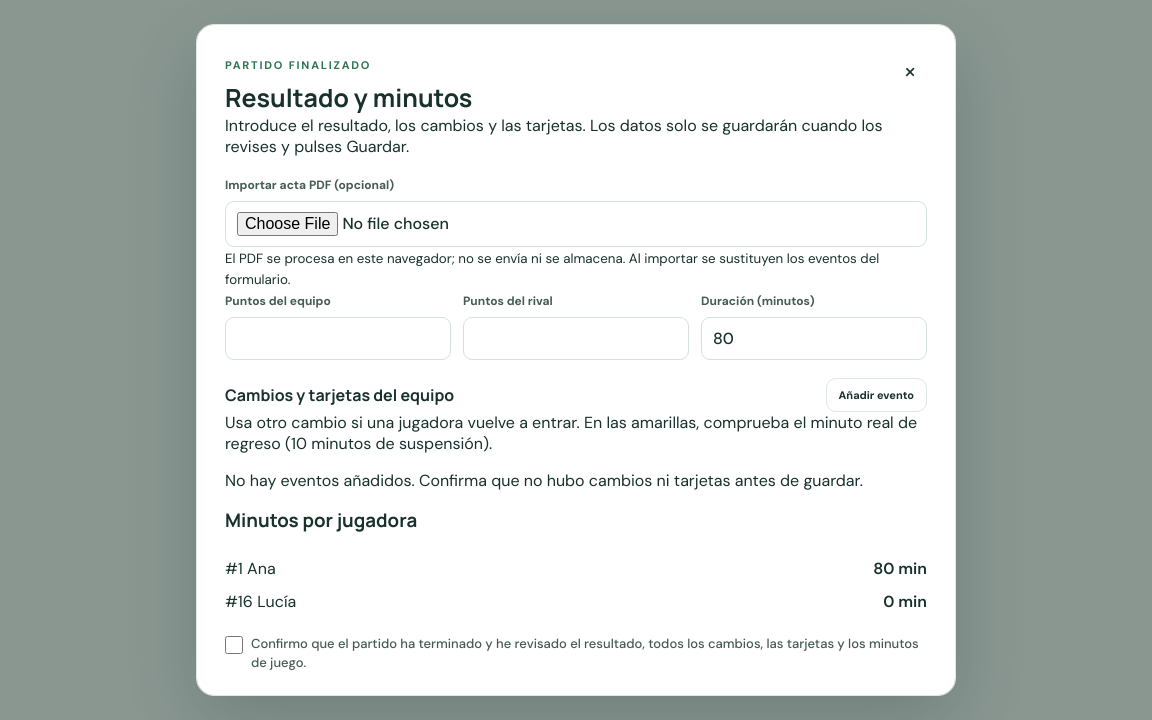
MatchReportDialog › blocks inconsistent substitutions and missing minute values
The image size is (1152, 720).
Type "46" into the number field labelled "Puntos del equipo". click: (338, 338)
box: [225,317,451,360]
Type "7" into the number field labelled "Puntos del rival". click: (576, 338)
box: [463,317,689,360]
Click the button "Añadir evento". click: (876, 395)
box: [826,378,927,412]
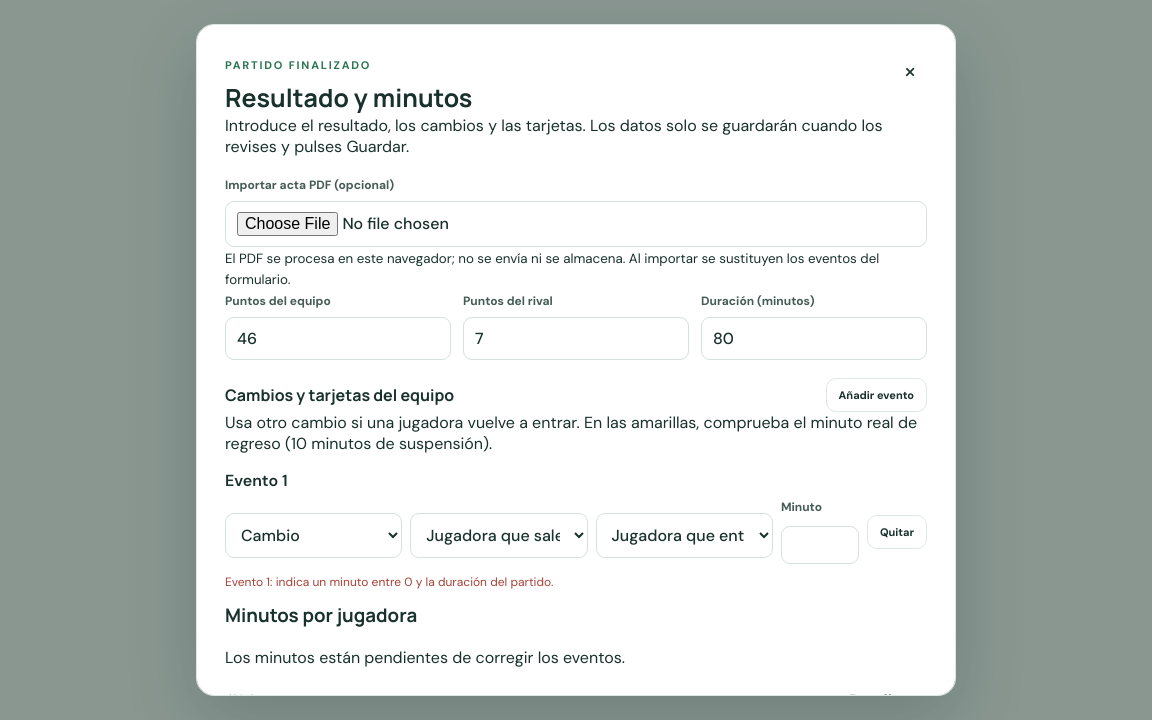
Select "#16 Lucía" in the dropdown named "Jugadora del evento 1". click: (499, 535)
box: [410,512,588,558]
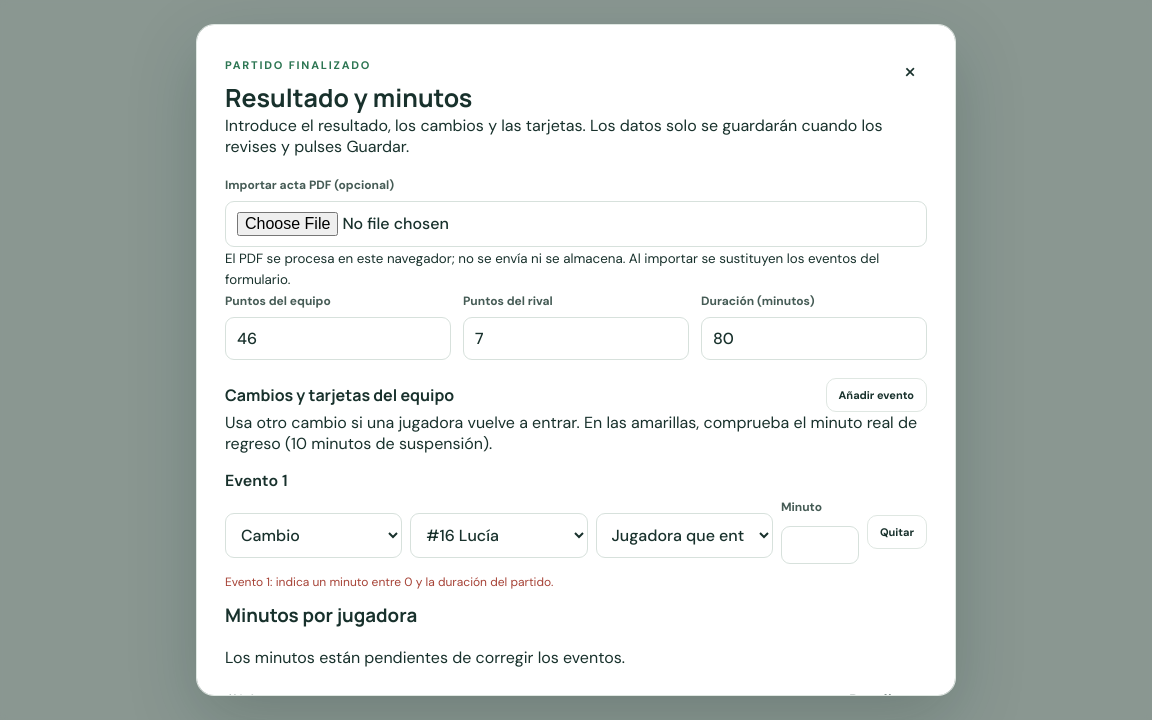
Select "#1 Ana" in the dropdown named "Jugadora que entra en el evento 1". click: (684, 535)
box: [596,512,773,558]
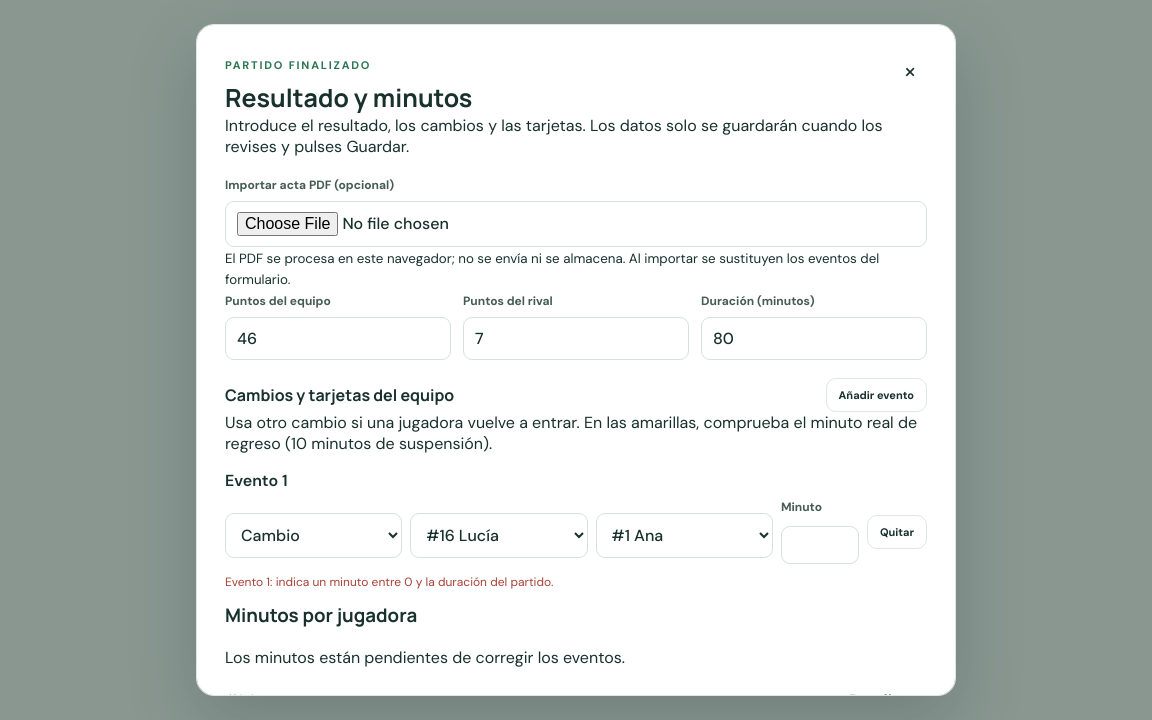
Type "20" into the number field named "Minuto del evento 1". click: (820, 545)
box: [781,526,859,564]
(page scrolled)
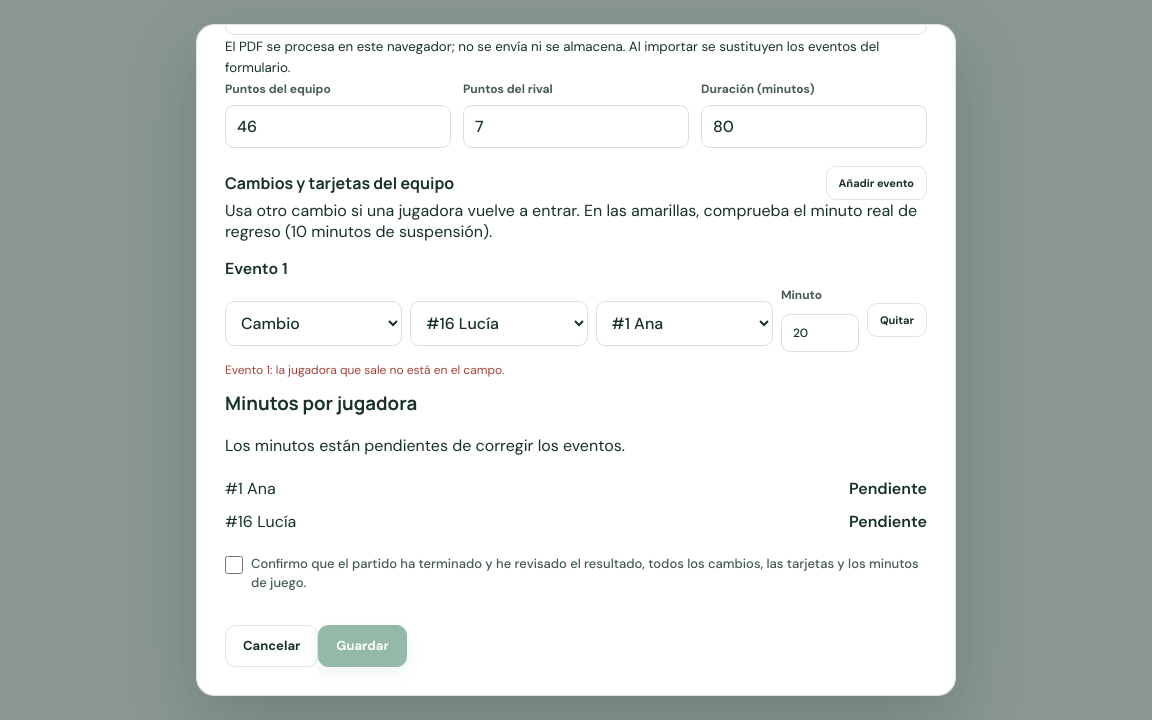
Click the checkbox labelled "Confirmo que el partido ha terminado". click: (234, 565)
box: [225,556,243,574]
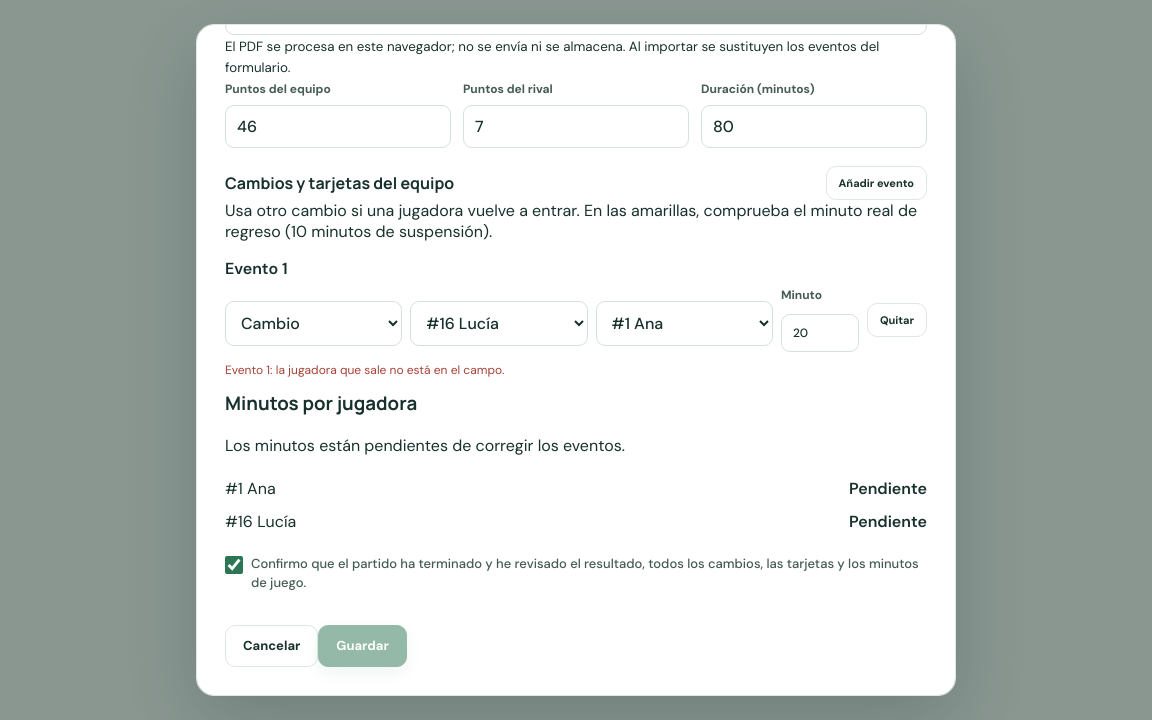
Expected: the button "Guardar" is disabled, [318,625,407,667]
Result: the message shows "no está en el campo" at [225,362,504,378]
Clear the number field named "Minuto del evento 1". click: (820, 333)
box: [781,314,859,352]
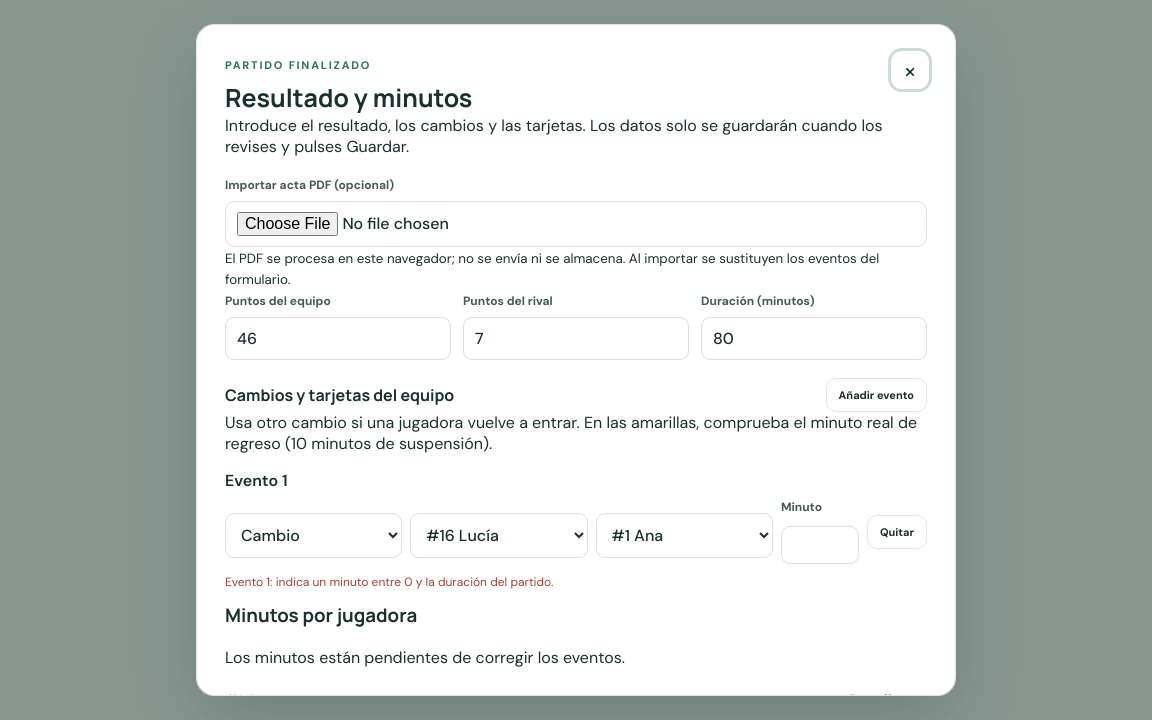
Result: the message shows "indica un minuto" at [225,574,554,590]
